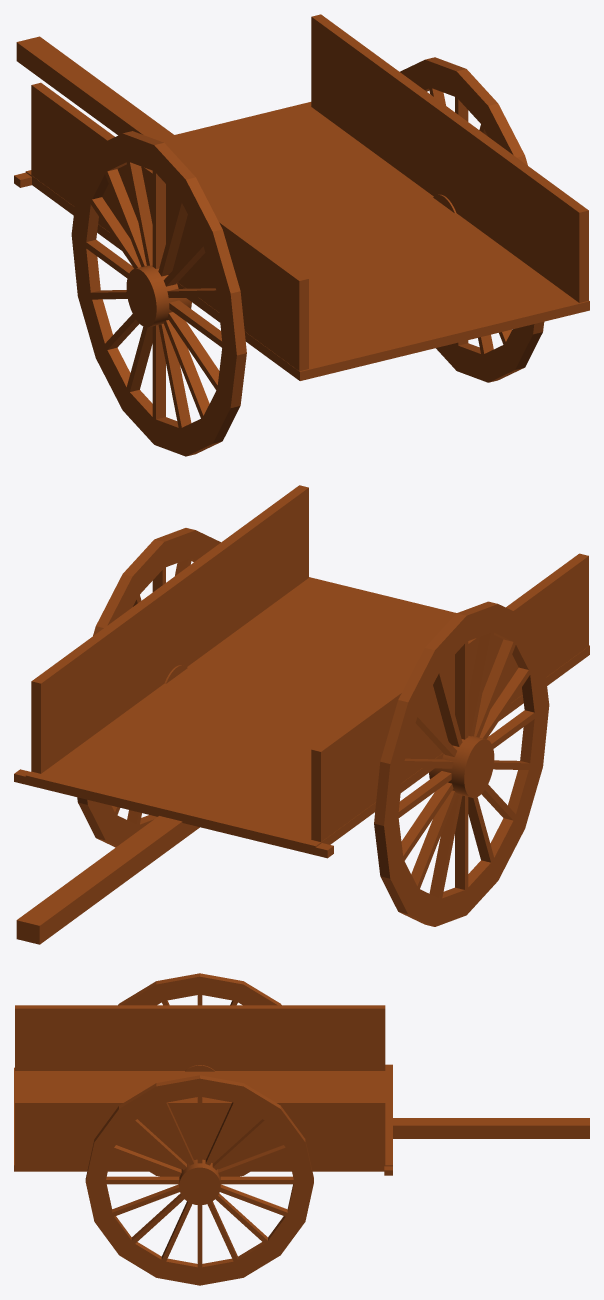
3 renders of one model, top to bottom at view 1: azimuth 30°, elevation 25°; view 2: azimuth 150°, elevation 25°; view 3: azimuth 270°, elevation 25°, orthographic. The views are drawn at different scales.
Visible parts, largest first — view 1: handcart; view 2: handcart; view 3: handcart.
Boxes of the visible parts, x1,y1,x2,y2 form: handcart: [14, 14, 589, 456]; handcart: [14, 485, 589, 944]; handcart: [14, 973, 589, 1285].
Size of the model in its own units: 0.842 by 0.714 by 1.8.
